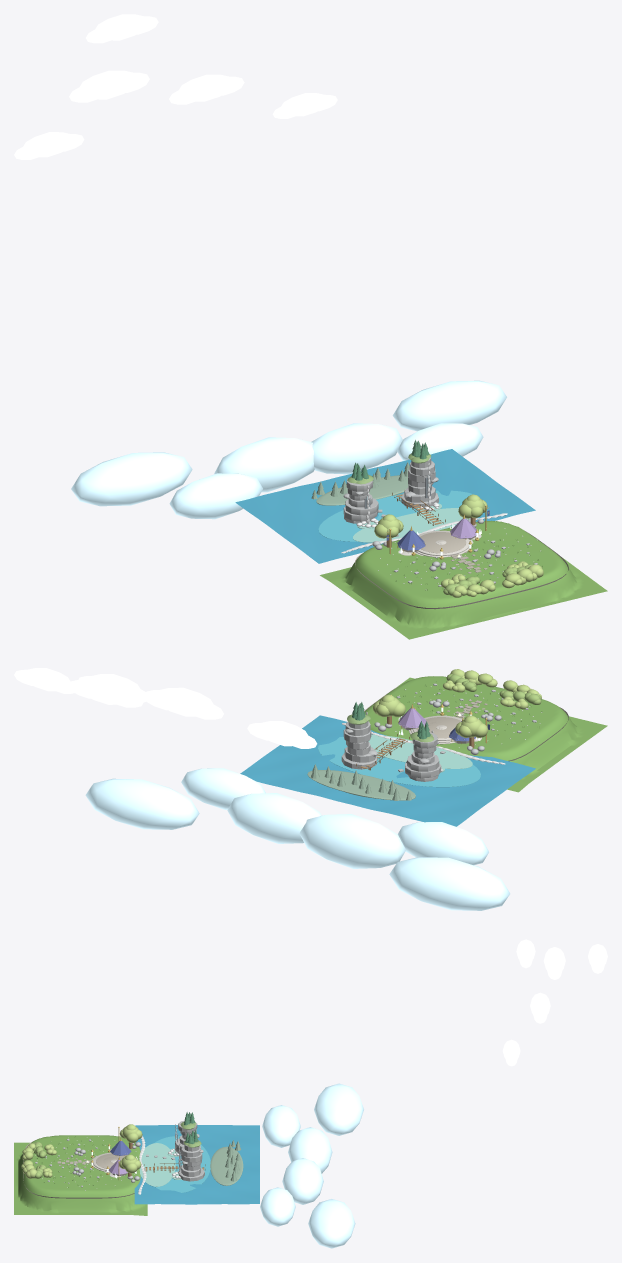
The model's file is moonlake_hd25d_hero_slice_v0.glb.
The picture shows the model from 3 angles, top to bottom: view 1: azimuth 30°, elevation 25°; view 2: azimuth 150°, elevation 25°; view 3: azimuth 270°, elevation 25°; orthographic projection. The views are drawn at different scales.
Visible parts, largest first — view 1: ENV_backdrop_distant_hills, ENV_ground_island, ENV_water_lake_deep, ENV_backdrop_clouds, ENV_water_lake_mid, ENV_water_lake_shallow, ENV_cliff_tower_right, ENV_cliff_tower_left, ENV_bush_row_00, ENV_ground_far_bank; view 2: ENV_backdrop_distant_hills, ENV_ground_island, ENV_water_lake_deep, ENV_backdrop_clouds, ENV_water_lake_mid, ENV_ground_far_bank, ENV_cliff_tower_right, ENV_water_lake_shallow, ENV_cliff_tower_left, ENV_backdrop_far_treeline, ENV_bush_row_00, ENV_bush_row_01 (+5 smaller); view 3: ENV_backdrop_distant_hills, ENV_ground_island, ENV_water_lake_deep, ENV_backdrop_clouds, ENV_water_lake_shallow, ENV_water_lake_mid, ENV_ground_far_bank, ENV_cliff_tower_right.
Part boxes in pixels (x1,y1,x2,y2): ENV_backdrop_distant_hills: [71, 380, 506, 519]; ENV_ground_island: [320, 520, 607, 639]; ENV_water_lake_deep: [235, 449, 535, 563]; ENV_backdrop_clouds: [14, 14, 337, 159]; ENV_water_lake_mid: [318, 490, 473, 541]; ENV_water_lake_shallow: [353, 508, 470, 542]; ENV_cliff_tower_right: [401, 457, 438, 508]; ENV_cliff_tower_left: [343, 478, 378, 523]; ENV_bush_row_00: [452, 564, 543, 597]; ENV_ground_far_bank: [316, 475, 408, 505]; ENV_backdrop_distant_hills: [85, 768, 510, 910]; ENV_ground_island: [364, 676, 607, 792]; ENV_water_lake_deep: [240, 715, 535, 826]; ENV_backdrop_clouds: [14, 668, 317, 748]; ENV_water_lake_mid: [318, 736, 480, 787]; ENV_ground_far_bank: [307, 770, 415, 800]; ENV_cliff_tower_right: [341, 721, 377, 769]; ENV_water_lake_shallow: [368, 734, 472, 768]; ENV_cliff_tower_left: [405, 732, 441, 781]; ENV_backdrop_far_treeline: [311, 764, 411, 800]; ENV_bush_row_00: [450, 669, 541, 698]; ENV_bush_row_01: [446, 674, 541, 704]; ENV_backdrop_distant_hills: [260, 1083, 363, 1248]; ENV_ground_island: [14, 1135, 147, 1215]; ENV_water_lake_deep: [134, 1125, 259, 1204]; ENV_backdrop_clouds: [502, 939, 607, 1066]; ENV_water_lake_shallow: [139, 1143, 175, 1186]; ENV_water_lake_mid: [154, 1136, 210, 1192]; ENV_ground_far_bank: [210, 1146, 243, 1185]; ENV_cliff_tower_right: [179, 1144, 204, 1181].
Size of what is drawn, in the model's own units: 50.43 by 36.59 by 82.6.
